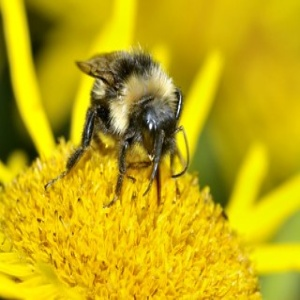bee: (68, 50, 194, 211)
